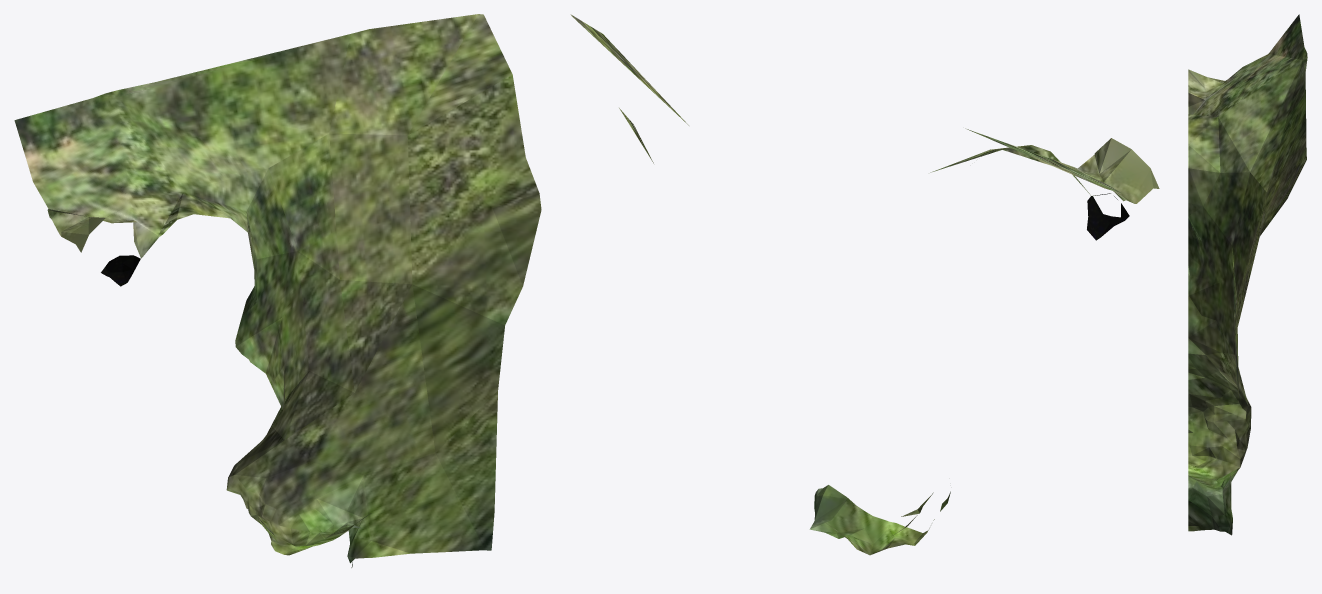
3 renders of one model, left to right at view 1: azimuth 30°, elevation 25°; view 2: azimuth 150°, elevation 25°; view 3: azimuth 270°, elevation 25°, orthographic. The views are drawn at different scales.
Bounding box in the file's own units: 26.11 × 26.11 × 7.05.
Materials: 2 (2 with a texture image).
